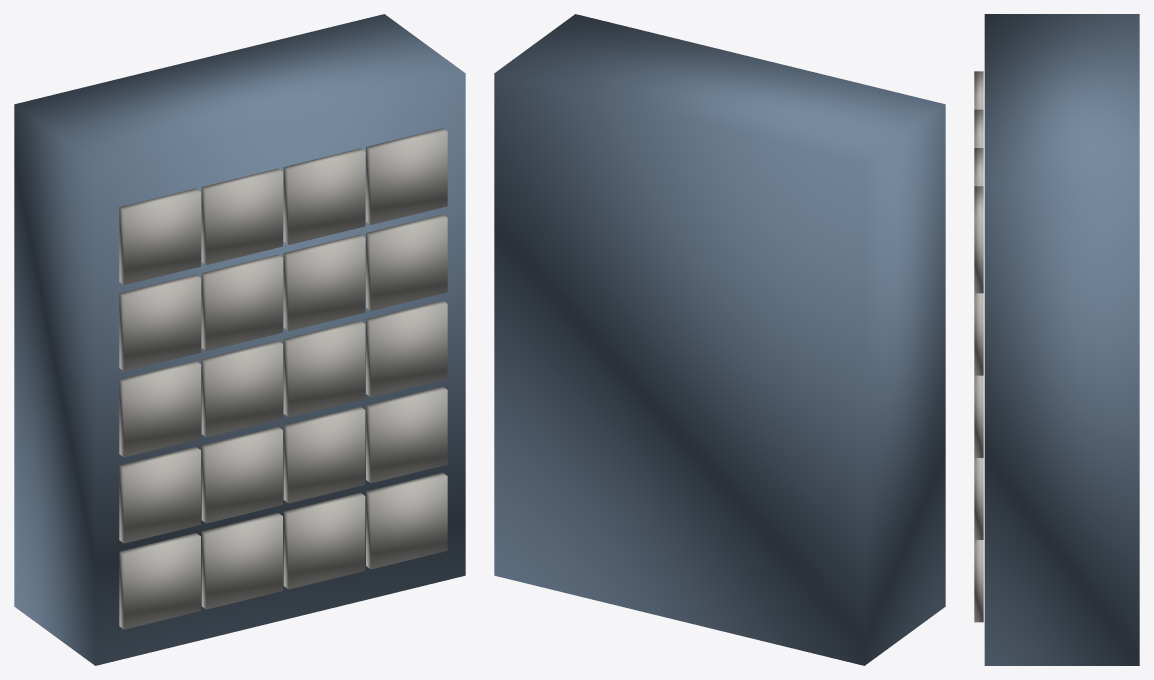
Rendered from parcel_locker__deep.glb.
The picture shows the model from 3 angles, left to right: view 1: azimuth 30°, elevation 25°; view 2: azimuth 150°, elevation 25°; view 3: azimuth 270°, elevation 25°; orthographic projection. The views are drawn at different scales.
Visible parts, largest first — view 1: world; view 2: world; view 3: world.
Part boxes in pixels (x1=…): world: x1=14, y1=14, x2=465, y2=665; world: x1=494, y1=14, x2=945, y2=665; world: x1=974, y1=14, x2=1139, y2=665.
Bounding box in the file's own units: 1.35 × 1.75 × 0.5459.
